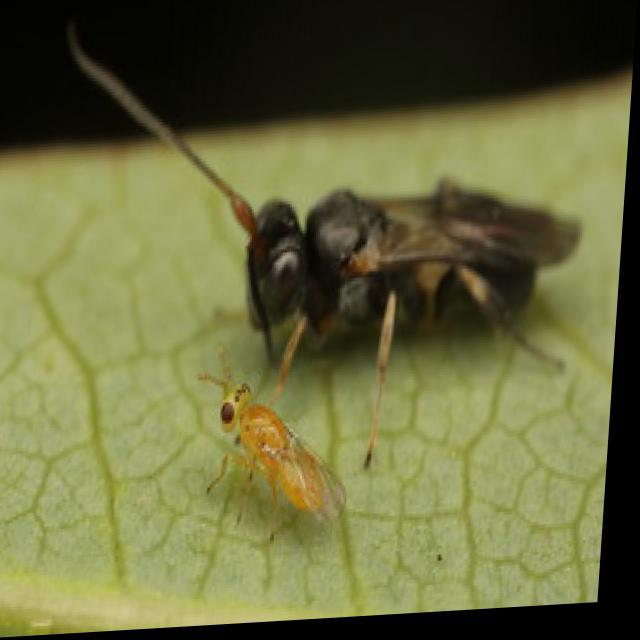Guepe: (32, 0, 600, 468)
